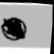correct: (0, 11, 37, 44)
